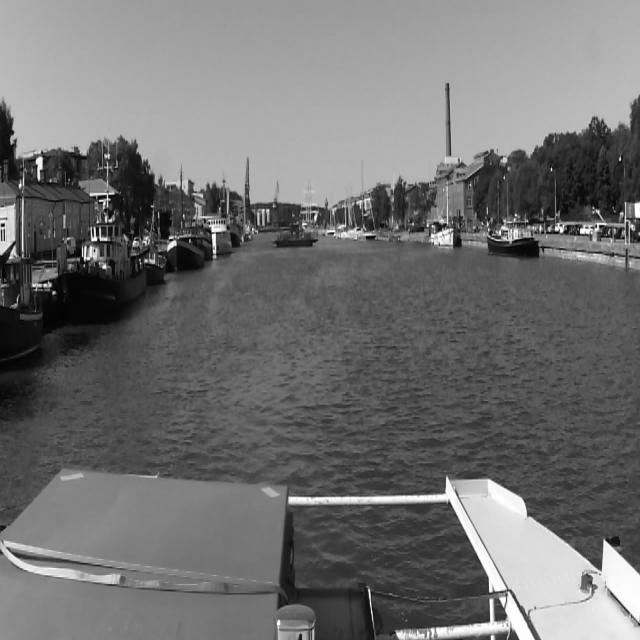ship: (68, 154, 147, 314), (166, 164, 207, 268), (487, 217, 540, 259), (270, 220, 318, 249), (211, 212, 233, 258), (430, 220, 458, 249)
